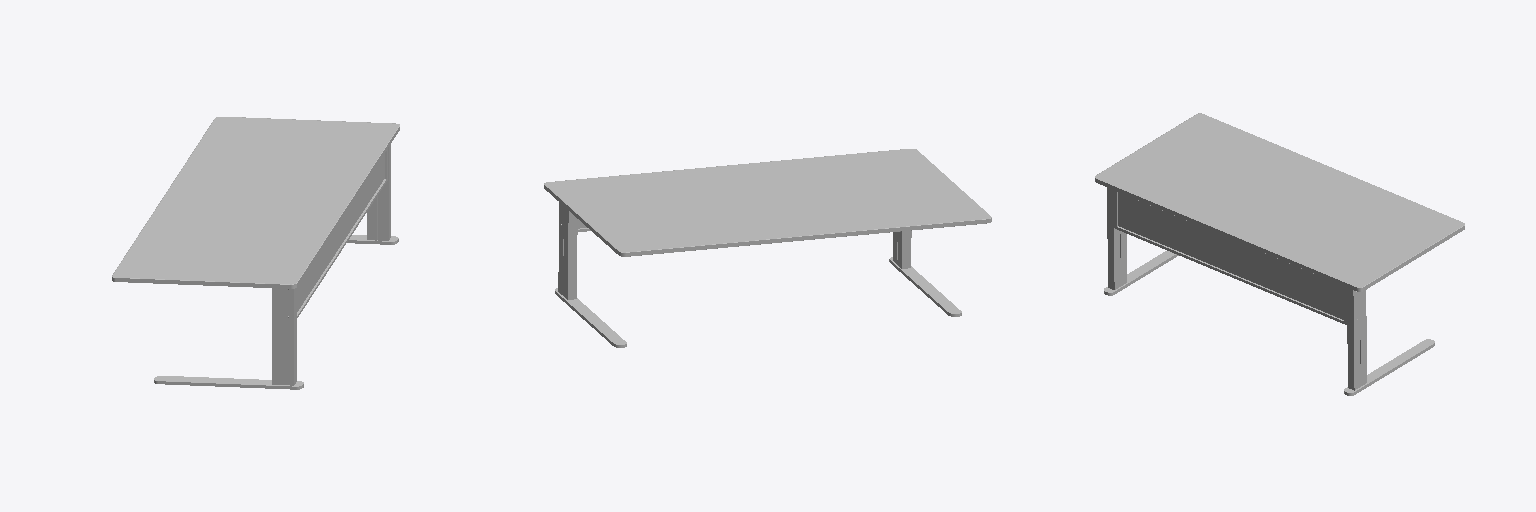
File: Escritorio.obj
3 views of the same model, side by side, from view 1: azimuth 30°, elevation 25°; view 2: azimuth 150°, elevation 25°; view 3: azimuth 270°, elevation 25° (orthographic).
Parts seen in each view (by area): view 1: Escritorio; view 2: Escritorio; view 3: Escritorio.
Boxes of the visible parts, box(x1,y1,x2,y2) form: Escritorio: box(112, 117, 399, 389); Escritorio: box(544, 149, 991, 347); Escritorio: box(1095, 113, 1464, 395).
Bounding box in the file's own units: 5.25 × 1.59 × 4.59.